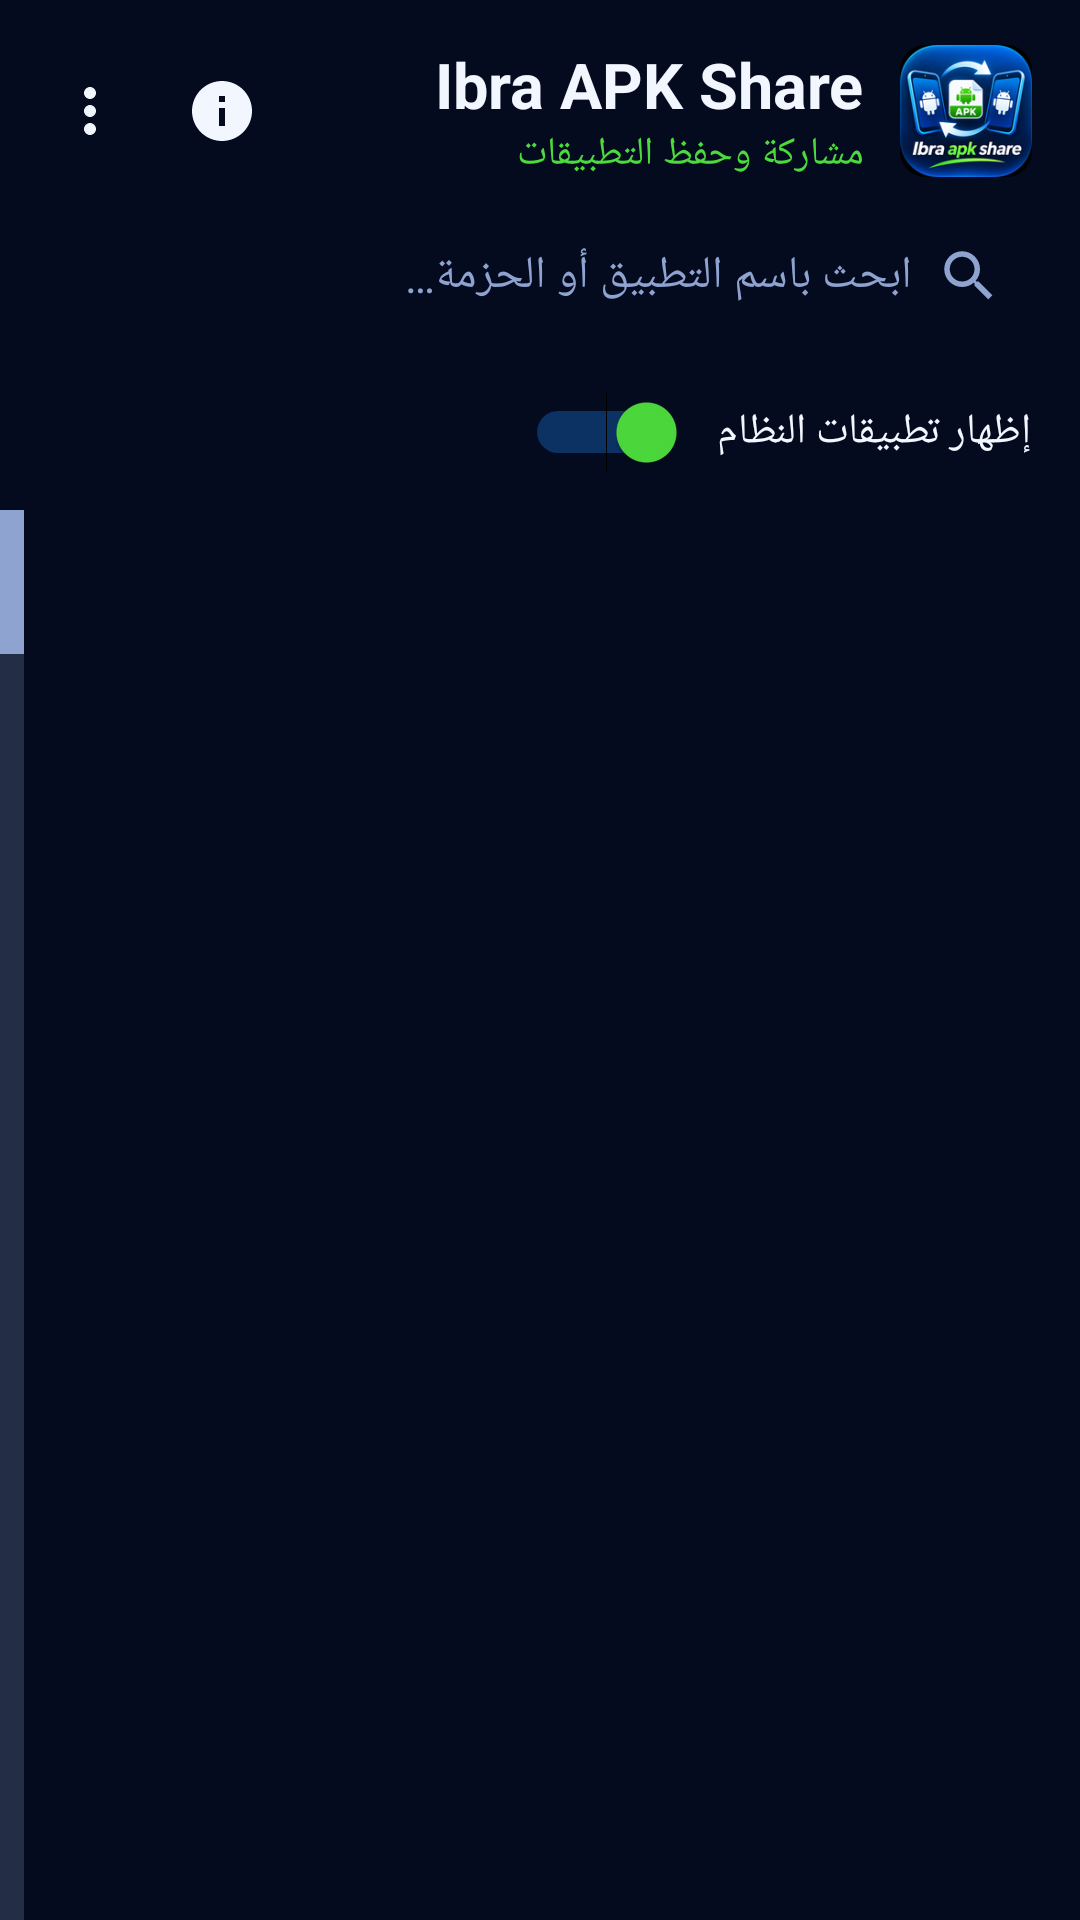

Screen size 1080 x 1920. Icon name, then its center in pixels as point (x, y):
حول: point (222, 111)
